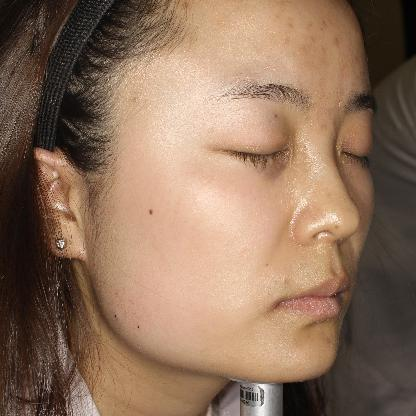Blackheads: (131, 319, 145, 336), (109, 309, 123, 324), (142, 207, 158, 218)
